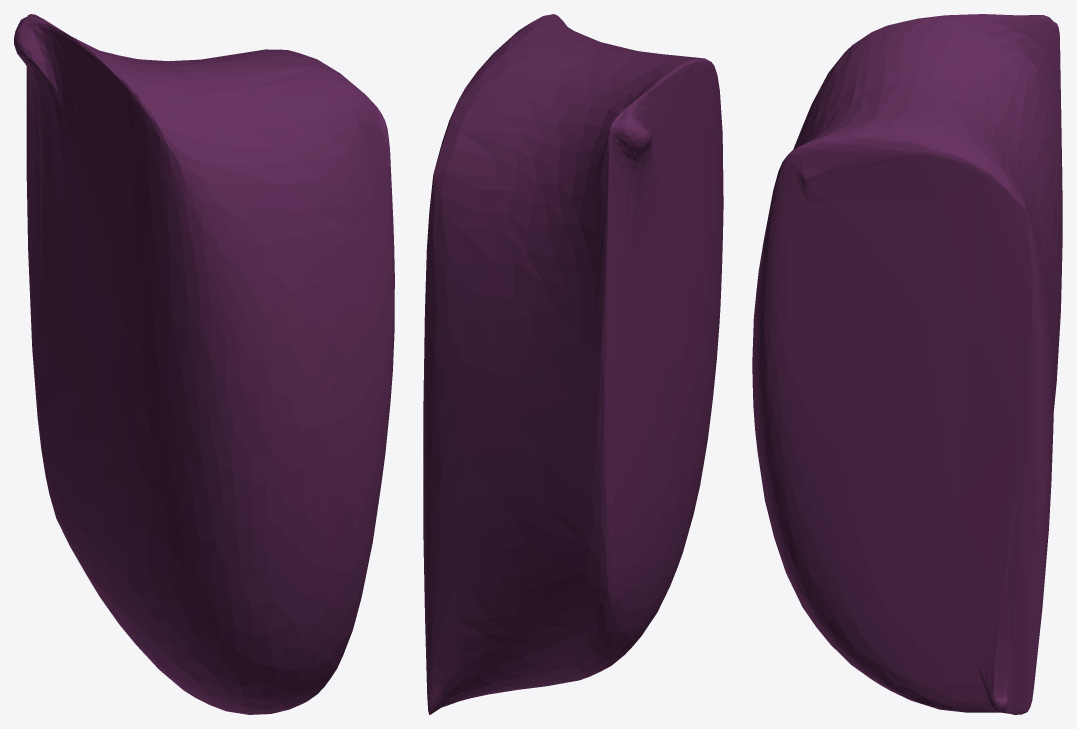
3 views of the same model, side by side, from view 1: azimuth 30°, elevation 25°; view 2: azimuth 150°, elevation 25°; view 3: azimuth 270°, elevation 25° (orthographic). The views are drawn at different scales.
Parts seen in each view (by area): view 1: 148_Cube.617; view 2: 148_Cube.617; view 3: 148_Cube.617.
Part boxes in pixels (<box>): 148_Cube.617: <box>14,14,394,714</box>; 148_Cube.617: <box>423,14,723,714</box>; 148_Cube.617: <box>752,14,1062,714</box>.
Bounding box in the file's own units: 4.37 × 11.72 × 5.39.
